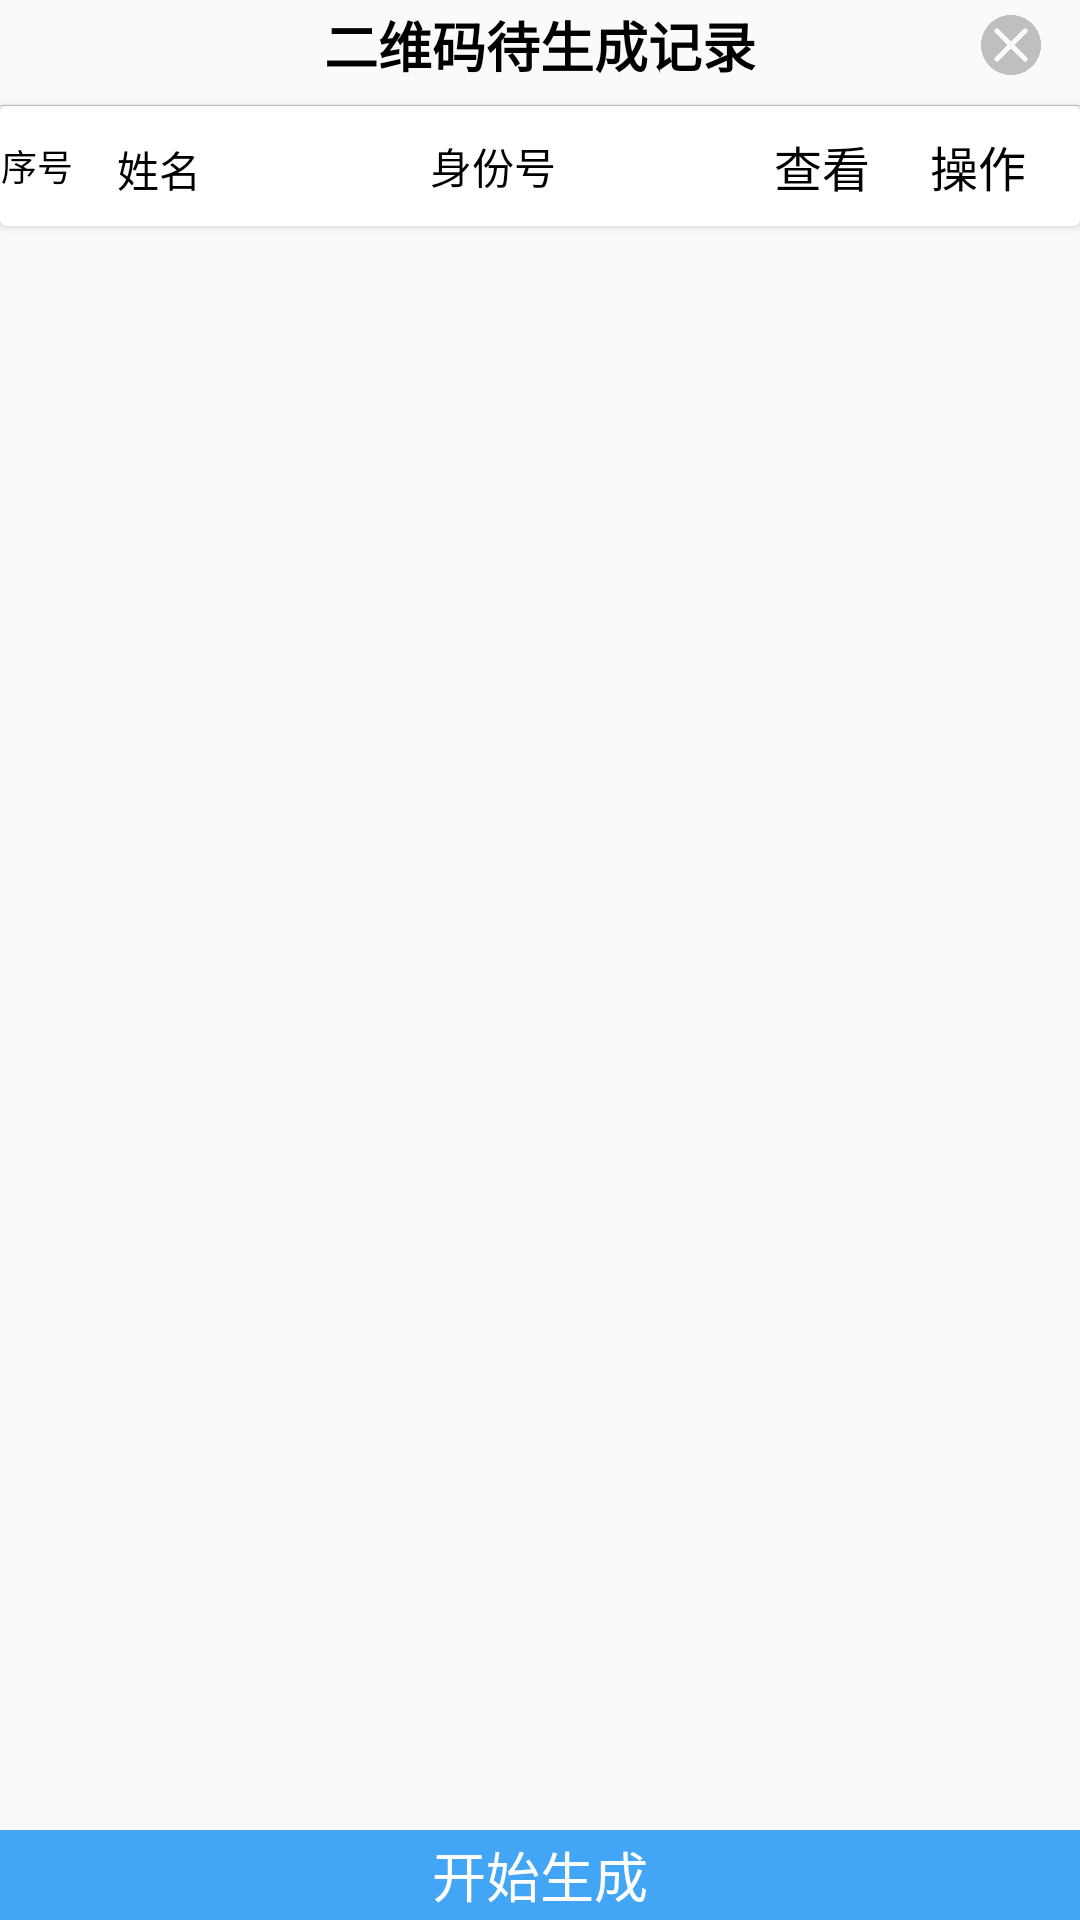

Icon click points for this 1080×1920 phone screenshot, format [x,y]:
close: [1011,45]
